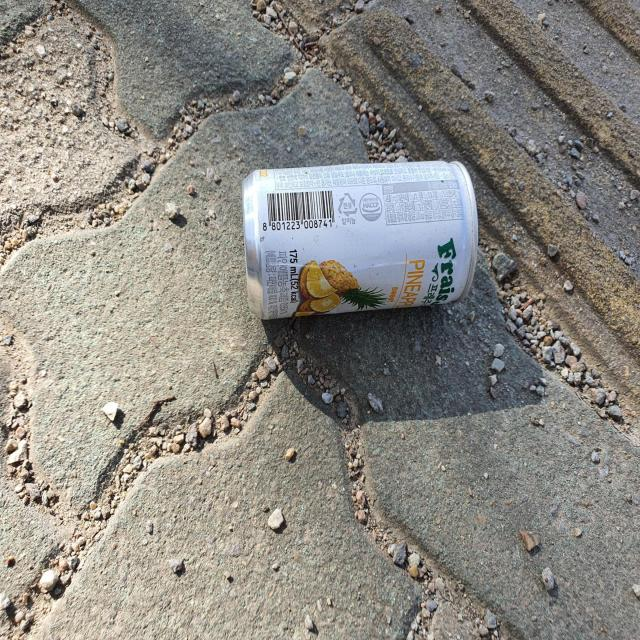can: (243, 160, 479, 319)
